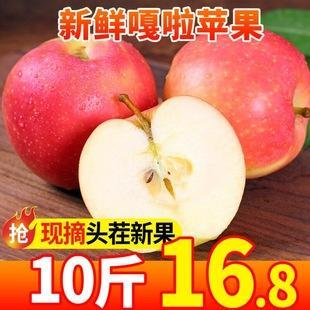apple: (2, 30, 161, 194), (163, 22, 310, 175)
